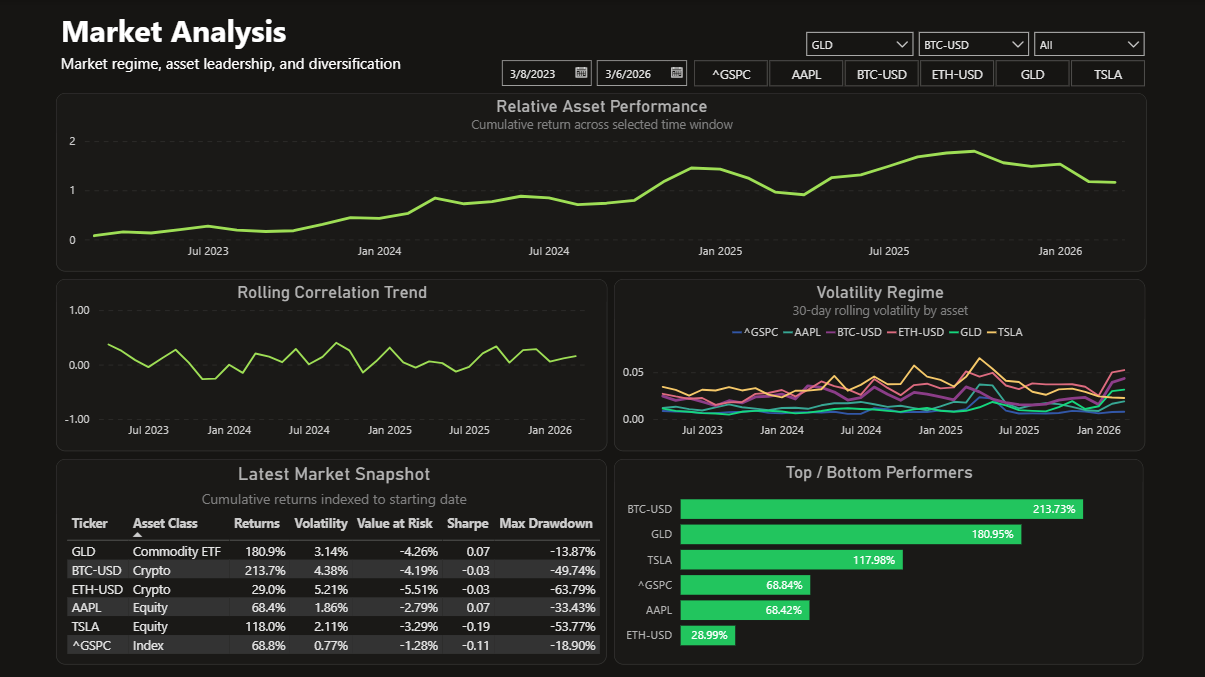

Layout of this report page (visuals, bound fields, positions):
{"tool":"powerbi","page":{"name":"Market Analysis","canvas":[1280,720],"ordinal":3},"visuals":[{"type":"textbox","box":[60.4,4.8,361.1,54.1],"z":0},{"type":"textbox","box":[60.4,50.9,394.5,55.7],"z":1000},{"type":"lineChart","title":"Portfolio vs Market Benchmark","fields":{"Category":["Dim Date.YearMonth"],"Y":["Fact Portfolio Risk.Portfolio %","Fact Portfolio Risk.Benchmark GSPC"]},"box":[583.8,295.9,633.1,182.9],"z":2000},{"type":"barChart","title":"Risk Contribution by Asset","fields":{"Category":["Dim Asset.ticker"],"Y":["Avg(Fact Asset Risk.volatility_30d)"]},"box":[60.4,488.3,583.8,217.9],"z":3000},{"type":"scatterChart","title":"Risk vs Return (Efficient Frontier Approximation)","fields":{"X":["Fact Asset Risk.Portfolio Risk"],"Y":["Fact Asset Risk.Portfolio Expected Return"],"Size":["Portfolio_Simulation.Portfolio Sharpe"],"Category":["Portfolio_Simulation.portfolio_id"]},"box":[653.7,488.3,563.1,217.9],"z":4000},{"type":"slicer","fields":{"Values":["Dim Date.Date"]},"box":[520.1,58.9,246.5,44.5],"z":5000},{"type":"slicer","fields":{"Values":["Dim Asset.ticker"]},"box":[711,62,528.1,36.6],"z":6000},{"type":"slicer","fields":{"Values":["Dim Asset.asset_class"]},"box":[1088,28.6,136.8,54.1],"z":7000},{"type":"donutChart","title":"Portfolio Allocation","fields":{"Category":["Dim Asset.ticker"],"Y":["Fact Portfolio Risk.Portfolio Weight"]},"box":[60.4,295.9,510.6,184.5],"z":8000},{"type":"slicer","fields":{"Values":["Fact Correlations.ticker_2"]},"box":[965.5,28.6,136.8,54.1],"z":8001},{"type":"slicer","title":"cc","fields":{"Values":["Fact Correlations.Asset"]},"box":[843,28.6,136.8,54.1],"z":8002},{"type":"lineChart","title":"Portfolio vs Market Benchmark","fields":{"Category":["Dim Date.YearMonth"],"Y":["Avg(Fact Asset Risk.cumulative_return)"]},"box":[60.4,98.6,1156.4,189.3],"z":8003}]}

Visuals, with their boxes in screenshot pixels (x1, y1, x2, y2), scaled from the page's 1280x720 canvas onto the 1205x677 screenshot:
textbox: box(57, 5, 397, 55)
textbox: box(57, 48, 428, 100)
"Portfolio vs Market Benchmark" lineChart: box(550, 278, 1146, 450)
"Risk Contribution by Asset" barChart: box(57, 459, 606, 664)
"Risk vs Return (Efficient Frontier Approximation)" scatterChart: box(615, 459, 1146, 664)
slicer - Dim Date.Date: box(490, 55, 722, 97)
slicer - Dim Asset.ticker: box(669, 58, 1166, 93)
slicer - Dim Asset.asset_class: box(1024, 27, 1153, 78)
"Portfolio Allocation" donutChart: box(57, 278, 538, 452)
slicer - Fact Correlations.ticker_2: box(909, 27, 1038, 78)
"cc" slicer: box(794, 27, 922, 78)
"Portfolio vs Market Benchmark" lineChart: box(57, 93, 1146, 271)
